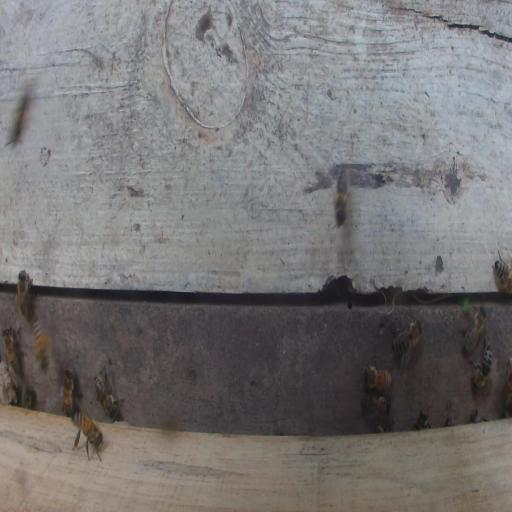nonpollenbee: (71, 401, 104, 464), (387, 314, 424, 370), (92, 362, 125, 423), (460, 302, 487, 360), (330, 163, 351, 232), (363, 346, 393, 394), (469, 331, 493, 391), (1, 325, 26, 375), (16, 268, 36, 324), (358, 391, 391, 422), (491, 246, 511, 296), (409, 398, 434, 432), (60, 368, 75, 416), (19, 381, 35, 410)
pollenbee: (31, 320, 52, 376)
